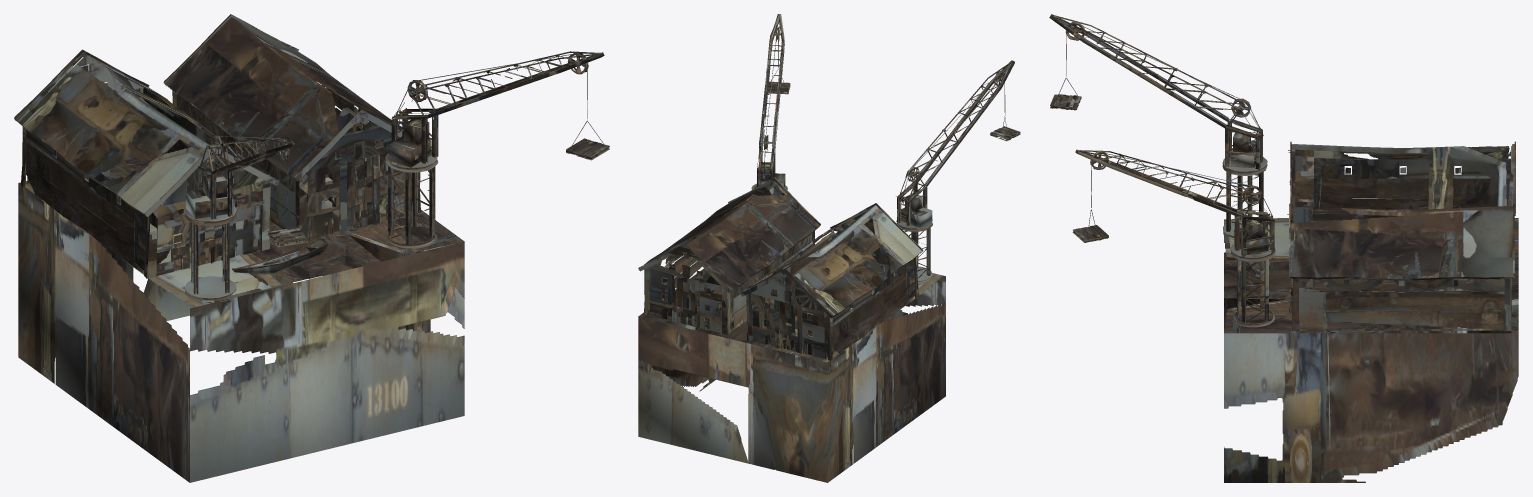
Rendered from harbour.dae.
The picture shows the model from 3 angles, left to right: view 1: azimuth 30°, elevation 25°; view 2: azimuth 150°, elevation 25°; view 3: azimuth 270°, elevation 25°; orthographic projection. The views are drawn at different scales.
Parts seen in each view (by area): view 1: base; view 2: base; view 3: base.
Part boxes in pixels (x1,y1,x2,y2): base: [14, 14, 609, 482]; base: [638, 14, 1020, 482]; base: [1049, 14, 1518, 482].
Bounding box in the file's own units: 157 × 212 × 177.
1 material, 1 textured.
